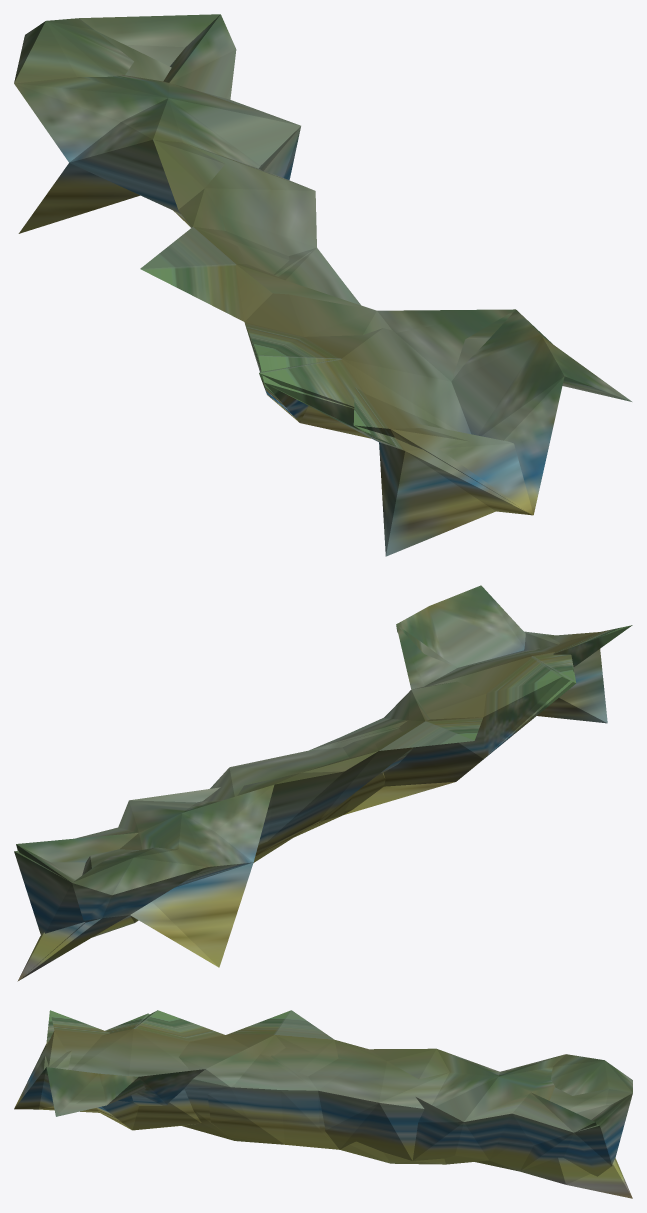
File: Bolacha.obj
The picture shows the model from 3 angles, top to bottom: view 1: azimuth 30°, elevation 25°; view 2: azimuth 150°, elevation 25°; view 3: azimuth 270°, elevation 25°; orthographic projection. The views are drawn at different scales.
Size of the model in its own units: 0.0769 by 0.0372 by 0.204.
1 material, 1 textured.
